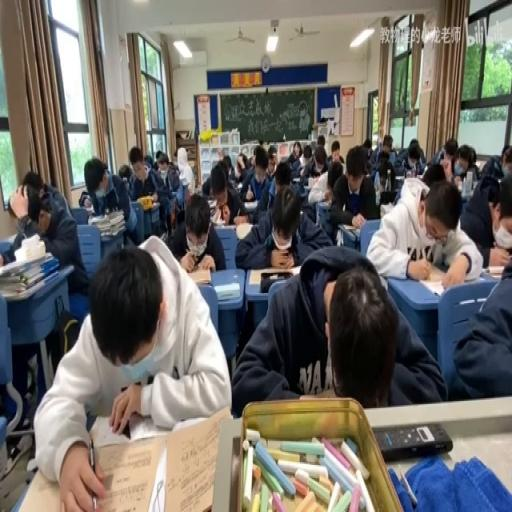calculator: (374, 422, 451, 461), (418, 266, 476, 296), (246, 266, 298, 286), (183, 269, 211, 286), (214, 282, 240, 300), (403, 175, 429, 189), (482, 263, 504, 279), (136, 196, 158, 212), (234, 222, 252, 240), (210, 206, 224, 224), (340, 220, 358, 234), (291, 180, 308, 194), (214, 222, 236, 232), (88, 213, 105, 225), (380, 200, 394, 214), (474, 156, 486, 170), (242, 199, 258, 209), (206, 196, 217, 209), (306, 175, 315, 188), (316, 198, 330, 206), (394, 174, 405, 184), (178, 174, 188, 184), (292, 176, 302, 184), (236, 180, 243, 190)
paper: (34, 238, 228, 509), (230, 245, 440, 415), (366, 175, 480, 290), (3, 172, 87, 296), (449, 240, 512, 400), (234, 182, 326, 267), (83, 155, 140, 246), (166, 191, 224, 270), (326, 144, 378, 230), (484, 172, 512, 269), (152, 151, 182, 230), (477, 142, 509, 184), (448, 142, 479, 185), (394, 136, 424, 175), (302, 144, 330, 184), (425, 138, 455, 172), (367, 135, 389, 171), (231, 152, 253, 186), (23, 186, 42, 225), (272, 160, 291, 190), (326, 138, 345, 166), (286, 141, 302, 168), (329, 162, 342, 192), (117, 164, 133, 186), (221, 154, 233, 176), (7, 196, 18, 218), (77, 189, 91, 206), (362, 136, 372, 154), (143, 154, 152, 169), (267, 148, 277, 161), (239, 148, 248, 162), (154, 149, 162, 162), (246, 155, 254, 168), (317, 135, 324, 148)
